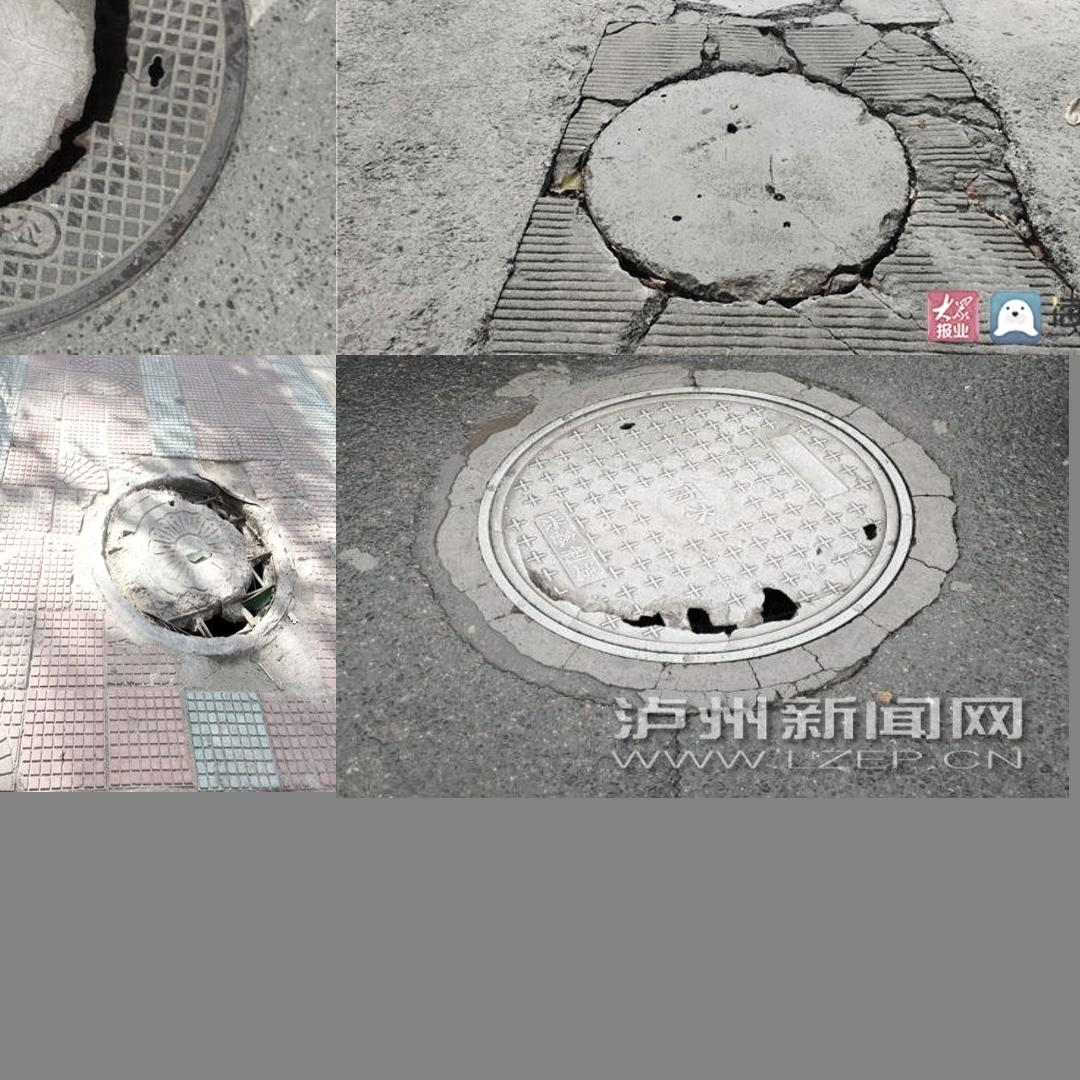broke: (413, 376, 939, 698), (526, 0, 1030, 333), (0, 0, 264, 348), (83, 463, 293, 654)
